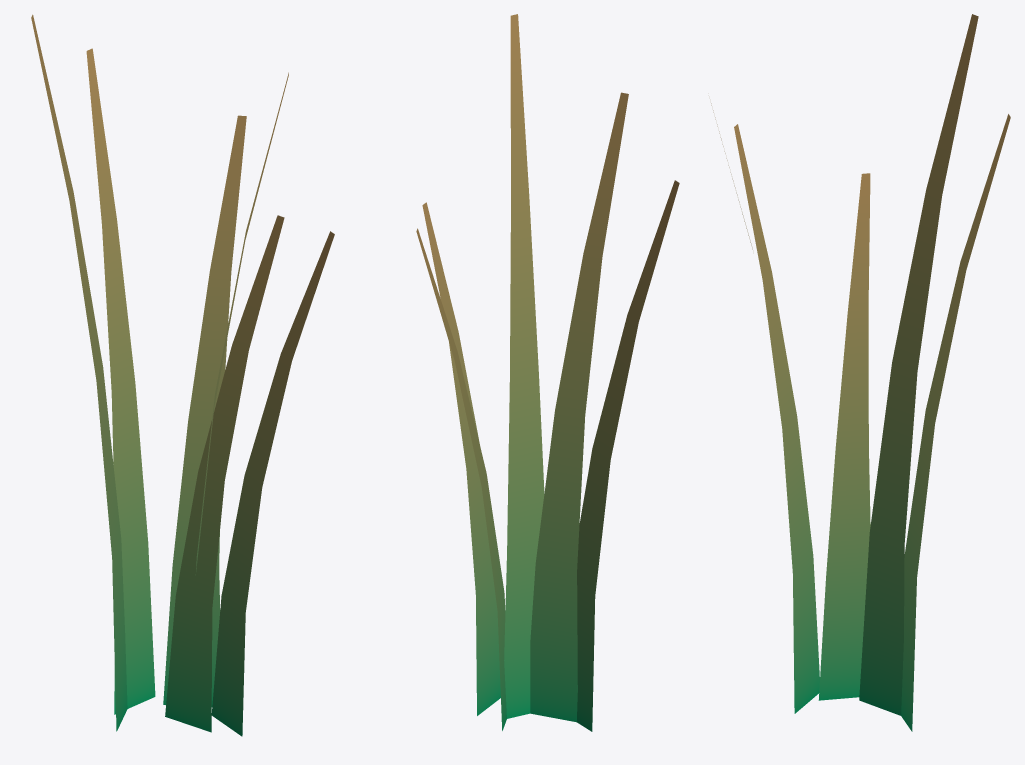
File: Wind Plant.gltf
3 renders of one model, left to right at view 1: azimuth 30°, elevation 25°; view 2: azimuth 150°, elevation 25°; view 3: azimuth 270°, elevation 25°, orthographic. The views are drawn at different scales.
Visible parts, largest first — view 1: Wind Plant; view 2: Wind Plant; view 3: Wind Plant.
Boxes of the visible parts, x1,y1,x2,y2 form: Wind Plant: (31, 14, 334, 736); Wind Plant: (416, 14, 679, 731); Wind Plant: (711, 14, 1010, 731).
Size of the model in its own units: 0.53 by 1.26 by 0.5139.
